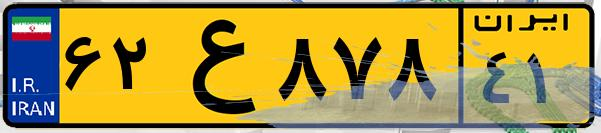1: (525, 38, 570, 115)
2: (110, 28, 158, 98)
4: (475, 38, 525, 113)
6: (57, 26, 110, 100)
7: (330, 28, 385, 110)
8: (270, 28, 330, 110), (385, 28, 445, 110)
ع: (158, 12, 270, 120)
